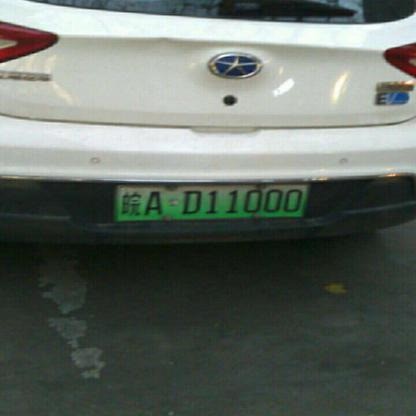lp: (116, 182, 309, 223)
